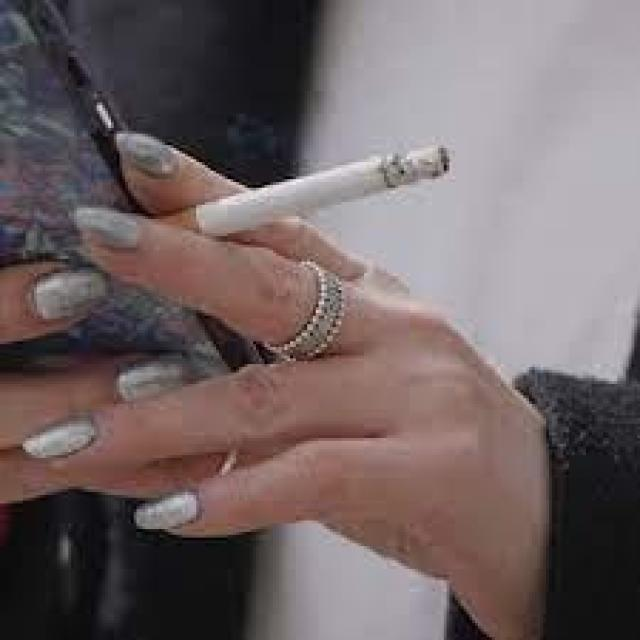cigarette: (145, 145, 449, 239)
